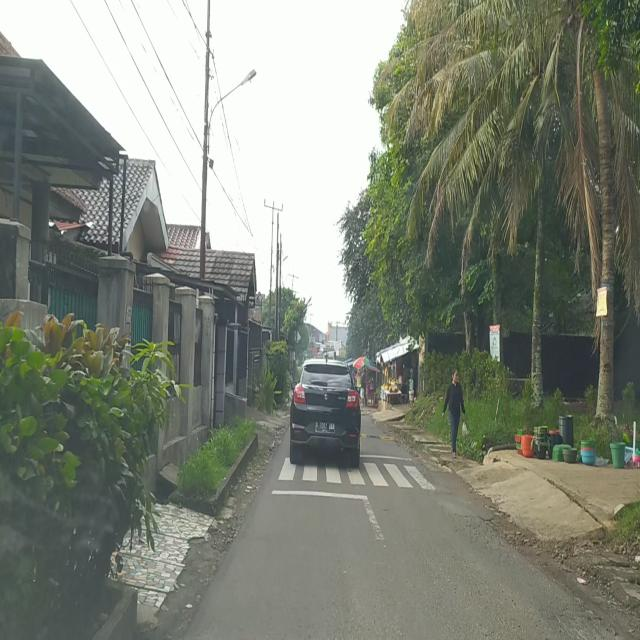Drain Hole: (541, 596, 612, 640), (440, 515, 515, 555), (410, 467, 450, 497)
